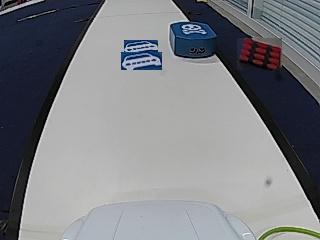danger: (181, 22, 206, 34)
